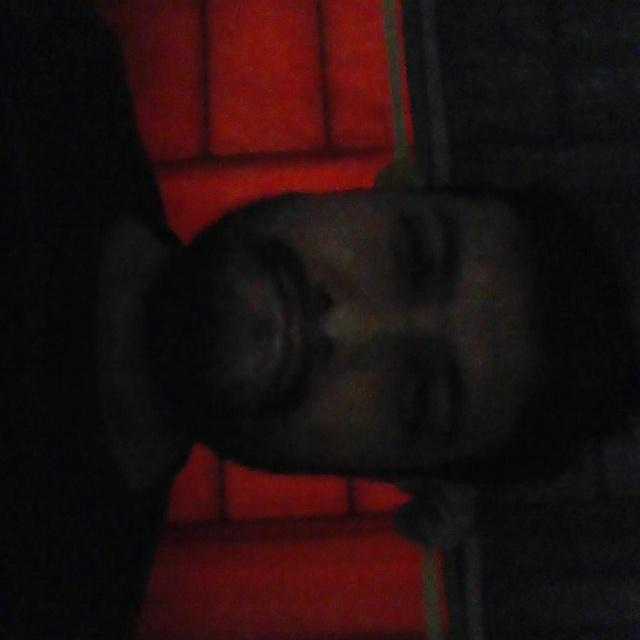Sad: (132, 150, 554, 505)
